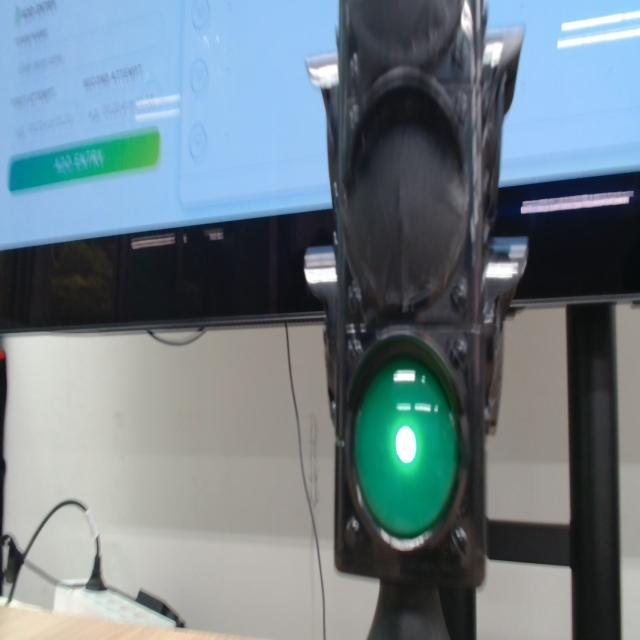green_light: (354, 357, 459, 539), (396, 426, 416, 463)
